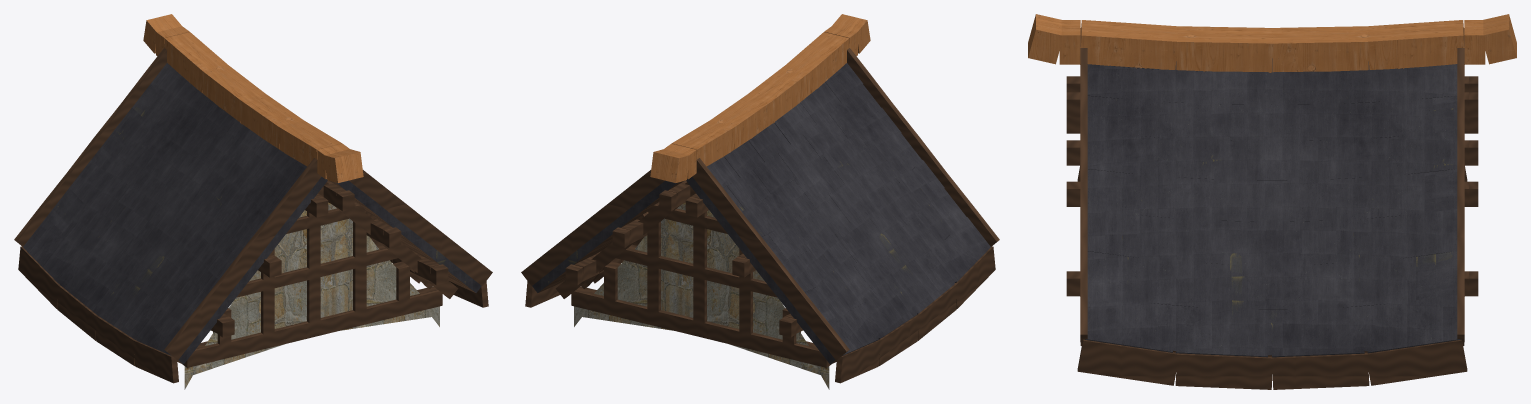
Rendered from roof_slate_curved.glb.
The picture shows the model from 3 angles, left to right: view 1: azimuth 30°, elevation 25°; view 2: azimuth 150°, elevation 25°; view 3: azimuth 270°, elevation 25°; orthographic projection. The views are drawn at different scales.
Visible parts, largest first — view 1: roof_slate_curved_0; view 2: roof_slate_curved_0; view 3: roof_slate_curved_0.
Boxes of the visible parts, x1,y1,x2,y2 form: roof_slate_curved_0: (14, 14, 492, 389); roof_slate_curved_0: (521, 14, 999, 389); roof_slate_curved_0: (1028, 14, 1516, 389).
Bounding box in the file's own units: 4.08 × 2.75 × 4.23.
4 materials, 4 textured.
